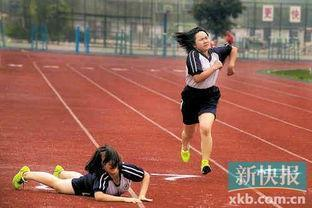Fall-Detected: (5, 138, 161, 204)
